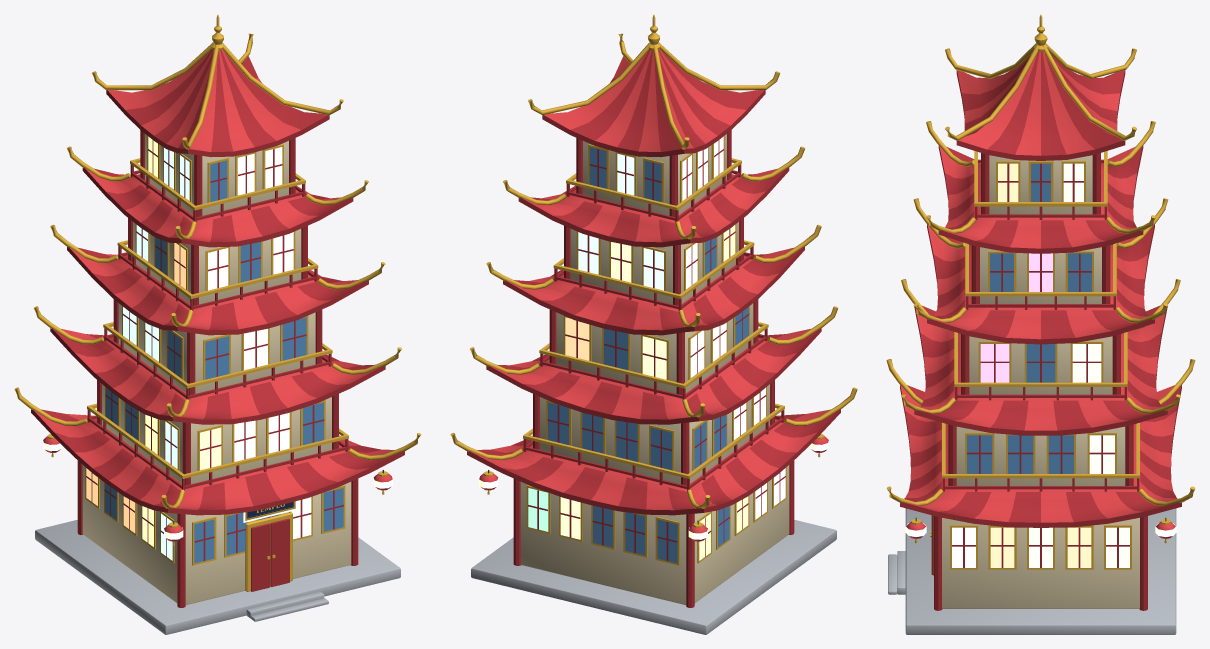
The model's file is pagode_alto_5_vermelho.glb.
3 views of the same model, side by side, from view 1: azimuth 30°, elevation 25°; view 2: azimuth 150°, elevation 25°; view 3: azimuth 270°, elevation 25° (orthographic). The views are drawn at different scales.
Parts seen in each view (by area): view 1: pagode_alto_5_vermelho; view 2: pagode_alto_5_vermelho; view 3: pagode_alto_5_vermelho.
Boxes of the visible parts, x1,y1,x2,y2 form: pagode_alto_5_vermelho: (14, 14, 421, 634); pagode_alto_5_vermelho: (450, 14, 857, 634); pagode_alto_5_vermelho: (886, 14, 1195, 634).
Size of the model in its own units: 11.86 by 23.86 by 11.88.
9 materials, 2 textured.
